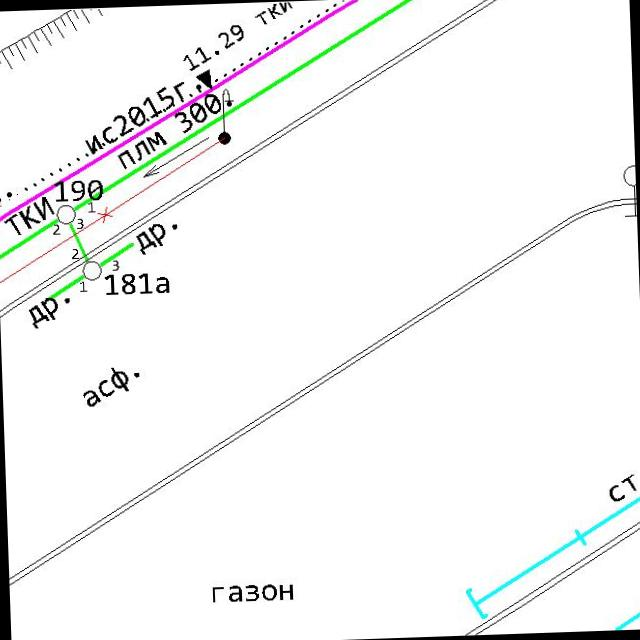asphalt: (81, 364, 141, 408)
mark: (193, 66, 214, 92)
well: (54, 202, 78, 227), (79, 258, 103, 282)
